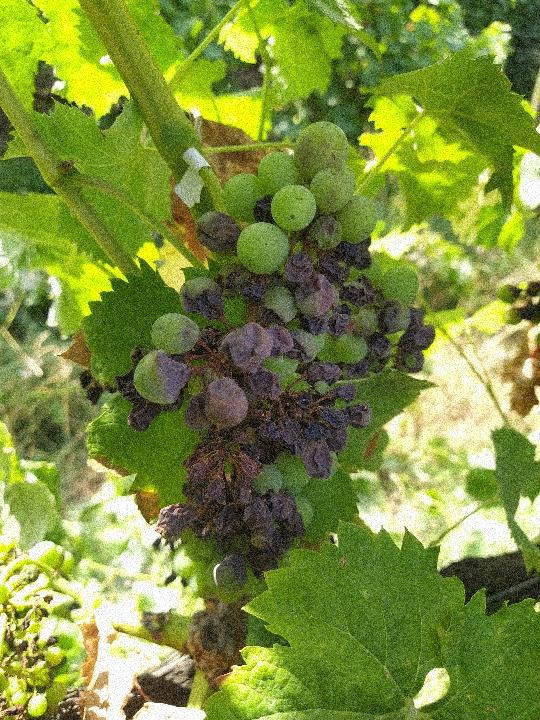grape: (110, 120, 438, 604)
